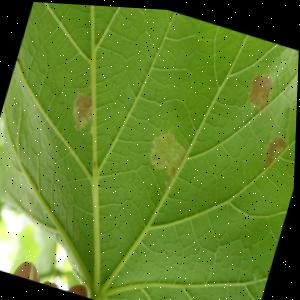Folha: (0, 0, 300, 300)
Fungo: (144, 125, 191, 178), (66, 88, 100, 133), (244, 66, 276, 110), (261, 129, 290, 171)
